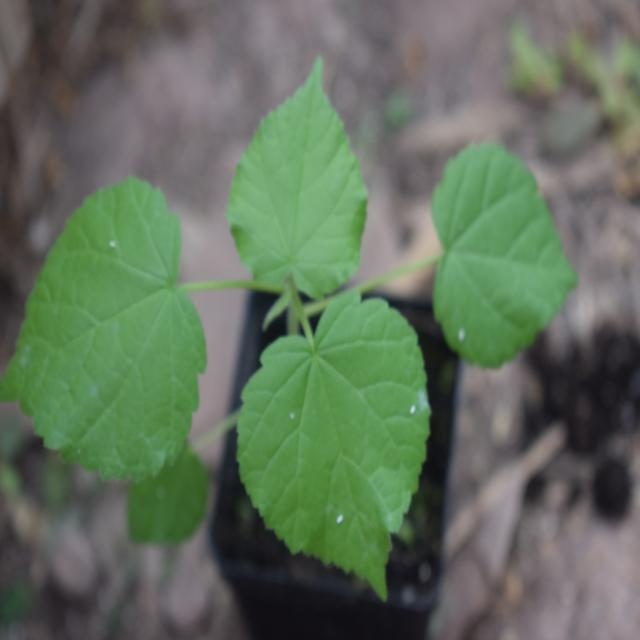abutilon theophrasti: (34, 72, 553, 588)
